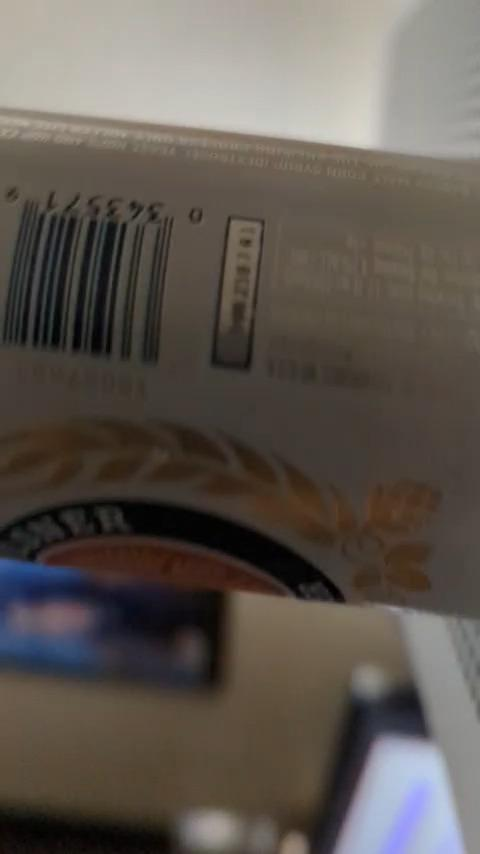metal: (0, 109, 479, 613)
